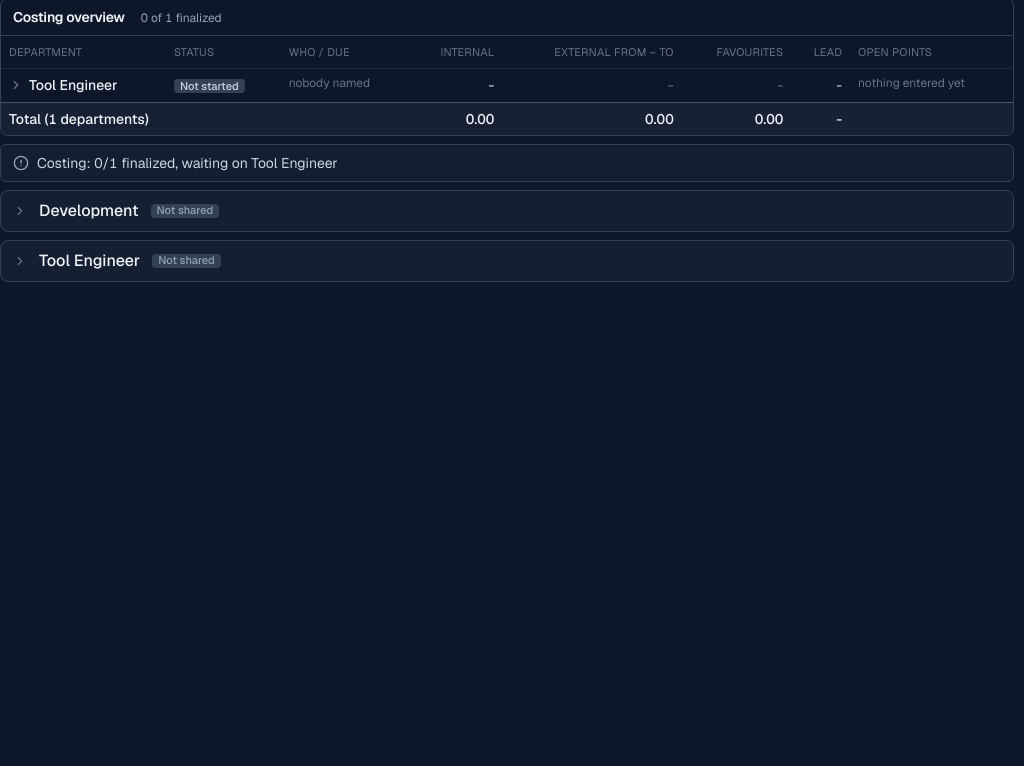
Test: CostingBuckets › a reader who is not PM gets neither (A3-12 negative)
Click the button with test id "costing-toggle-4".
click(90, 260)  # box [1,241,1013,281]
(page scrolled)
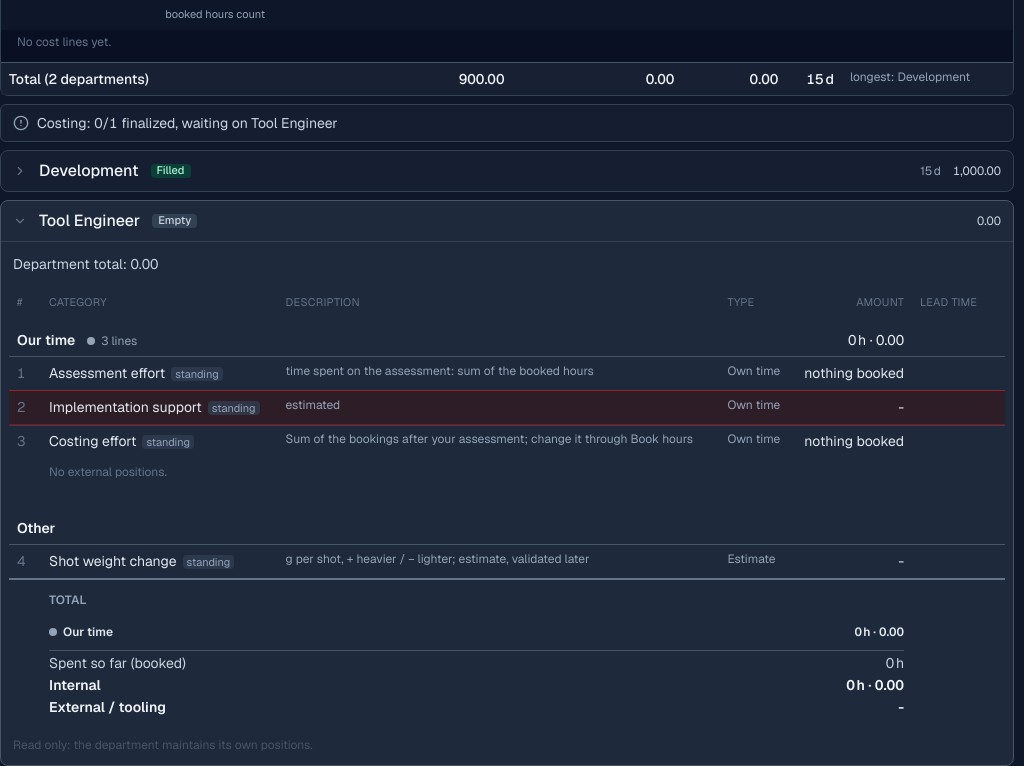
Check: the element with test id "costing-readonly-4" is shown
